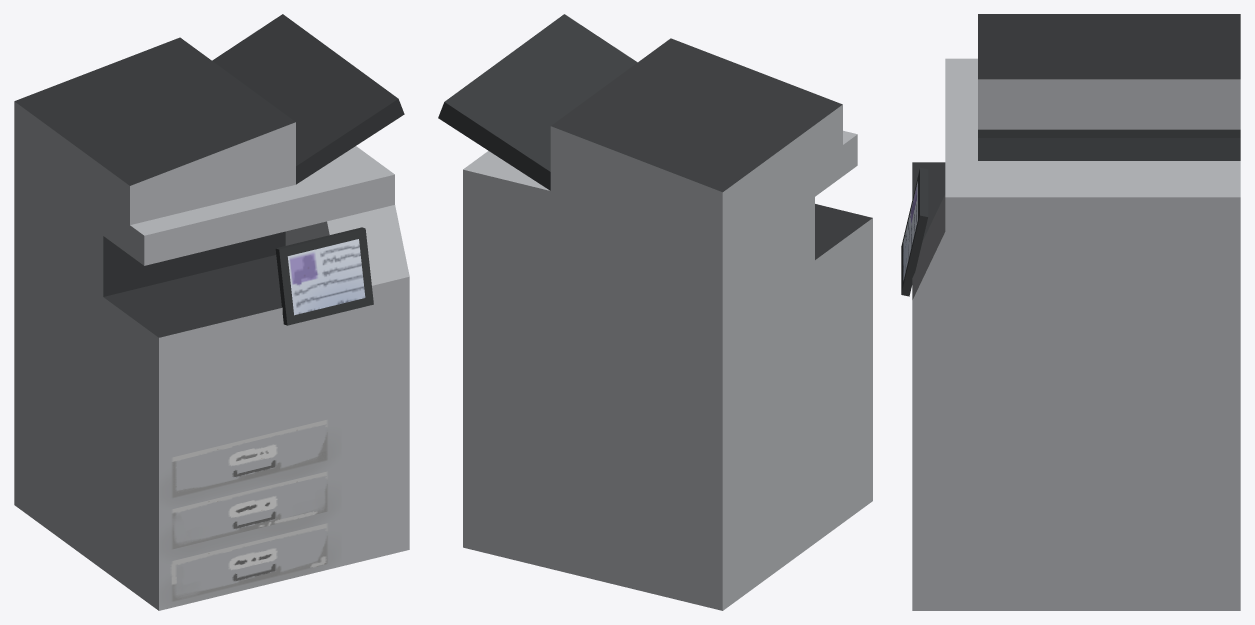
Rendered from printer.fbx.
3 views of the same model, side by side, from view 1: azimuth 30°, elevation 25°; view 2: azimuth 150°, elevation 25°; view 3: azimuth 270°, elevation 25° (orthographic). The views are drawn at different scales.
Parts seen in each view (by area): view 1: Cube.009, Cube.010; view 2: Cube.009; view 3: Cube.009, Cube.010.
Part boxes in pixels (x1,y1,x2,y2): Cube.009: (14, 14, 409, 610); Cube.010: (275, 227, 373, 325); Cube.009: (438, 14, 872, 610); Cube.009: (912, 14, 1240, 610); Cube.010: (901, 167, 928, 296).
Size of the model in its own units: 203 by 302 by 192.
